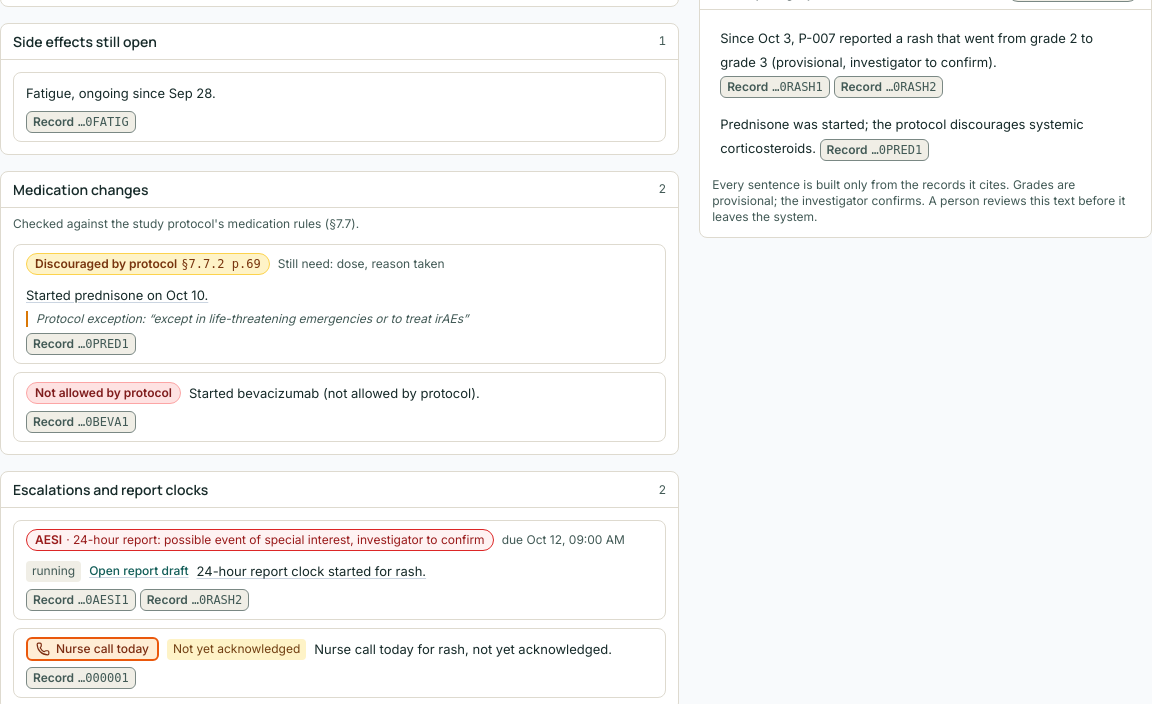
Test: BriefPage › names and links the evidence when the API sends a lookup
The image size is (1152, 704).
(page scrolled)
Click the button "Record …0PRED1" below "Discouraged by protocol": (81, 344) [26,333,136,355]
(page scrolled)
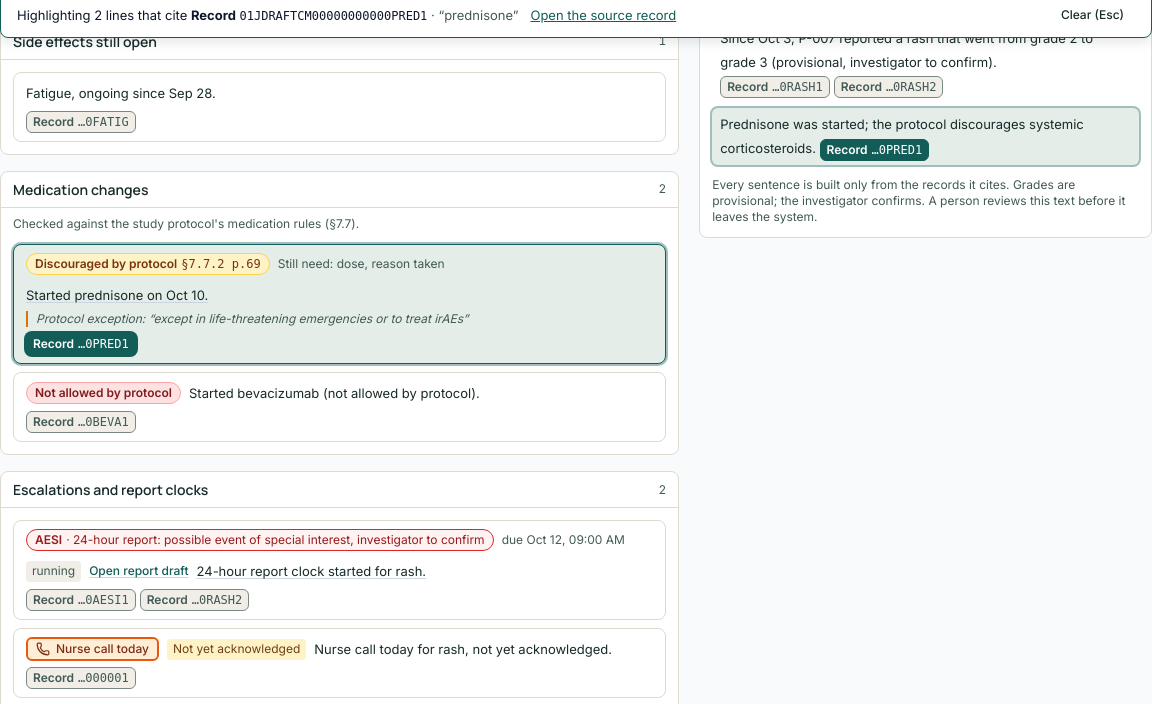
Check: the text "· “prednisone”" is shown, box [427,6,518,22]
